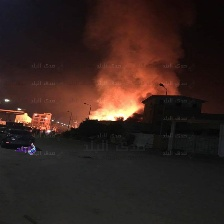fire: (87, 105, 137, 122)
smoke: (72, 5, 186, 103)
